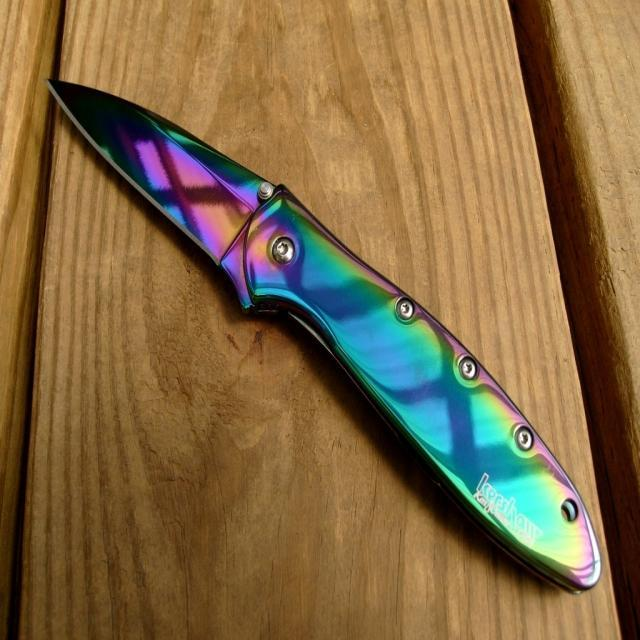Knife: (50, 81, 601, 591)
